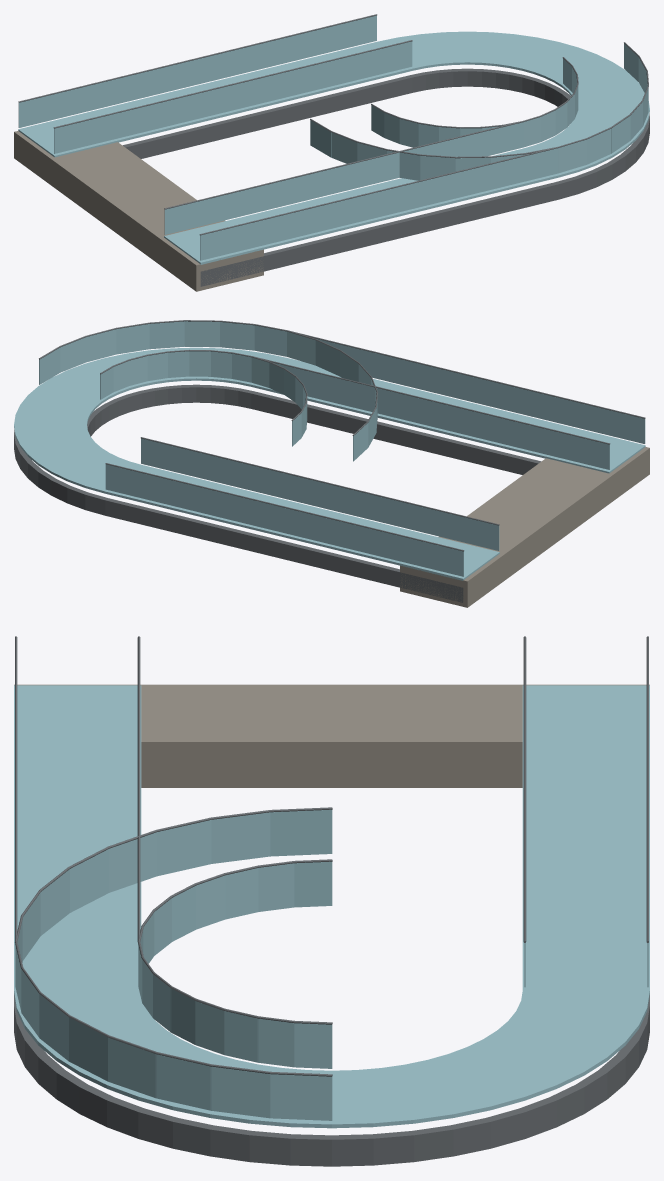
The model's file is skywalk.glb.
The picture shows the model from 3 angles, top to bottom: view 1: azimuth 30°, elevation 25°; view 2: azimuth 150°, elevation 25°; view 3: azimuth 270°, elevation 25°; orthographic projection. The views are drawn at different scales.
Visible parts, largest first — view 1: glass0, concrete3, glass10, glass4, glass6, steel1, glass8, steel2, steel5, steel11, steel7, glass18_8 (+10 smaller); view 2: glass0, concrete3, glass6, glass4, steel1, glass8, steel2, glass10, glass18_6, glass18_5, glass18_7, glass18_4 (+19 smaller); view 3: glass0, concrete3, steel1, glass18_1, glass18_16, glass18_2, glass18_15, glass18_3, glass18_14, glass18_4, glass18_13, glass14_1 (+21 smaller).
Boxes of the visible parts, <box> form: glass0: <box>18,31,649,264</box>; concrete3: <box>14,131,263,291</box>; glass10: <box>200,148,558,260</box>; glass4: <box>54,41,412,153</box>; glass6: <box>18,15,376,127</box>; steel1: <box>200,114,649,286</box>; glass8: <box>164,122,522,234</box>; steel2: <box>123,68,570,158</box>; steel5: <box>53,40,412,128</box>; steel11: <box>199,147,558,235</box>; steel7: <box>18,14,377,102</box>; glass18_8: <box>558,139,586,172</box>; glass0: <box>14,347,645,580</box>; concrete3: <box>400,447,649,607</box>; glass6: <box>105,464,463,576</box>; glass4: <box>141,438,499,550</box>; steel1: <box>14,430,463,602</box>; glass8: <box>273,362,609,469</box>; steel2: <box>87,384,541,474</box>; glass10: <box>315,338,645,443</box>; glass18_6: <box>184,321,219,347</box>; glass18_5: <box>149,321,184,349</box>; glass18_7: <box>220,322,254,350</box>; glass18_4: <box>116,324,149,354</box>; glass0: <box>14,685,649,1128</box>; concrete3: <box>14,684,649,787</box>; steel1: <box>14,995,649,1166</box>; glass18_1: <box>270,1074,332,1120</box>; glass18_16: <box>270,809,332,856</box>; glass18_2: <box>210,1066,270,1118</box>; glass18_15: <box>211,812,270,863</box>; glass18_3: <box>155,1054,211,1110</box>; glass18_14: <box>157,820,211,876</box>; glass18_4: <box>108,1037,156,1097</box>; glass18_13: <box>109,832,156,892</box>; glass14_1: <box>294,1023,332,1068</box>.
Size of the model in its own units: 24.7 by 2.55 by 15.
